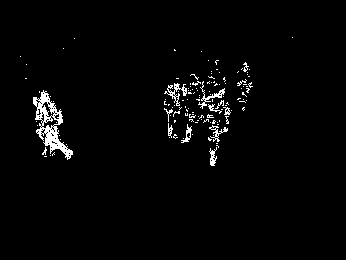person: (30, 90, 75, 161), (202, 84, 230, 167), (180, 73, 205, 145), (161, 76, 184, 140), (236, 61, 253, 113)
